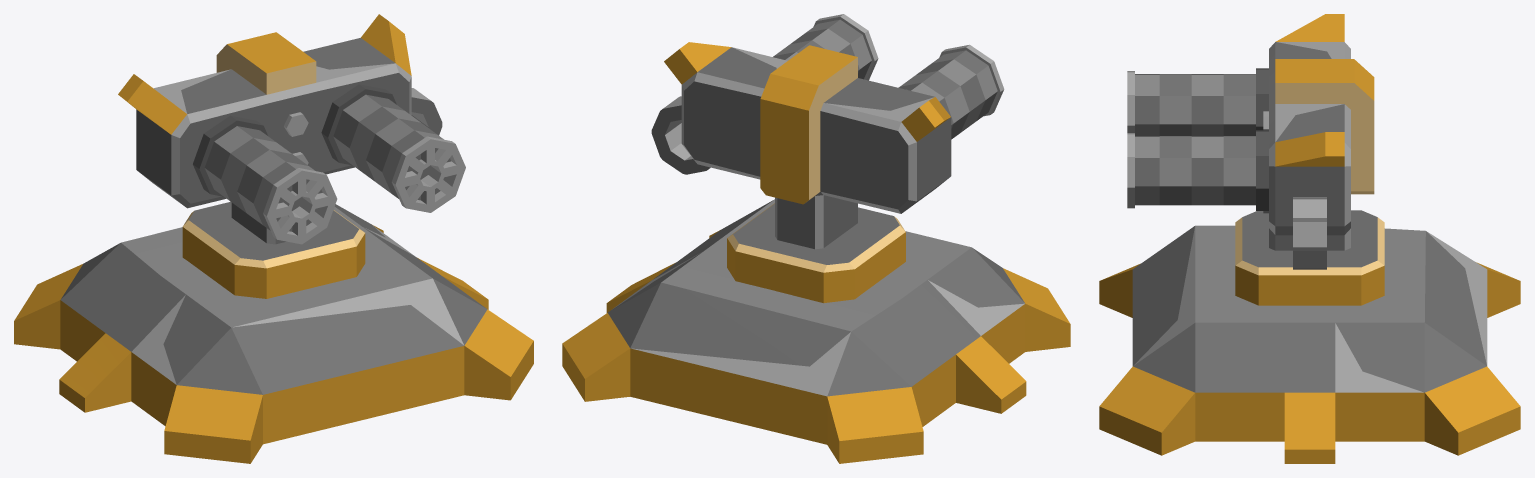
Rendered from tower_gatling_yellow_2.fbx.
The picture shows the model from 3 angles, left to right: view 1: azimuth 30°, elevation 25°; view 2: azimuth 150°, elevation 25°; view 3: azimuth 270°, elevation 25°; orthographic projection. The views are drawn at different scales.
Visible parts, largest first — view 1: tower_gatling_yellow_2, top_gatling_yellow_2; view 2: tower_gatling_yellow_2, top_gatling_yellow_2; view 3: tower_gatling_yellow_2, top_gatling_yellow_2.
Boxes of the visible parts, left/top/right/bottom form: tower_gatling_yellow_2: left=14, top=204, right=533, bottom=463; top_gatling_yellow_2: left=118, top=14, right=465, bottom=298; tower_gatling_yellow_2: left=562, top=199, right=1070, bottom=463; top_gatling_yellow_2: left=651, top=14, right=1004, bottom=303; tower_gatling_yellow_2: left=1099, top=225, right=1520, bottom=463; top_gatling_yellow_2: left=1127, top=14, right=1384, bottom=305.
Size of the model in its own units: 173 by 122 by 158.
